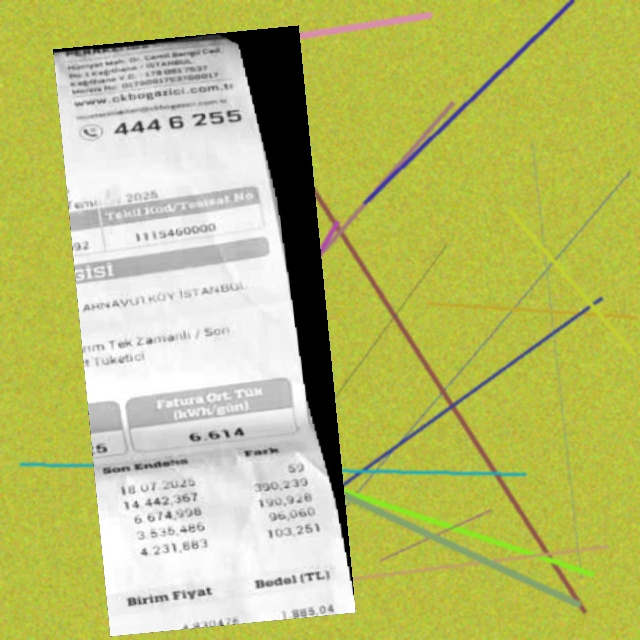electricity-bill: (52, 24, 356, 636)
